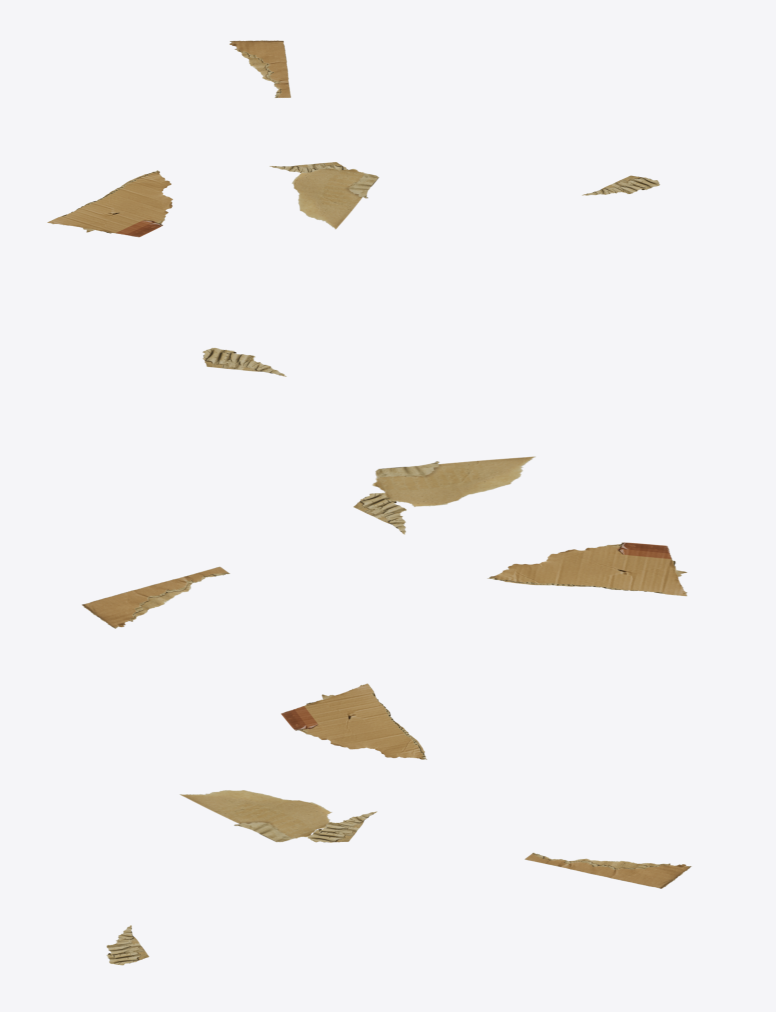
The model's file is cardboard_3.glb.
3 renders of one model, top to bottom at view 1: azimuth 30°, elevation 25°; view 2: azimuth 150°, elevation 25°; view 3: azimuth 270°, elevation 25°, orthographic. The views are drawn at different scales.
Visible parts, largest first — view 1: cardboard_lie_little; view 2: cardboard_lie_little; view 3: cardboard_lie_little.
Part boxes in pixels (x1,y1,x2,y2): cardboard_lie_little: [47, 40, 660, 237]; cardboard_lie_little: [82, 348, 687, 628]; cardboard_lie_little: [106, 683, 691, 965].
Size of the model in its own units: 3.52 by 0.0303 by 3.52.
1 material, 1 textured.
